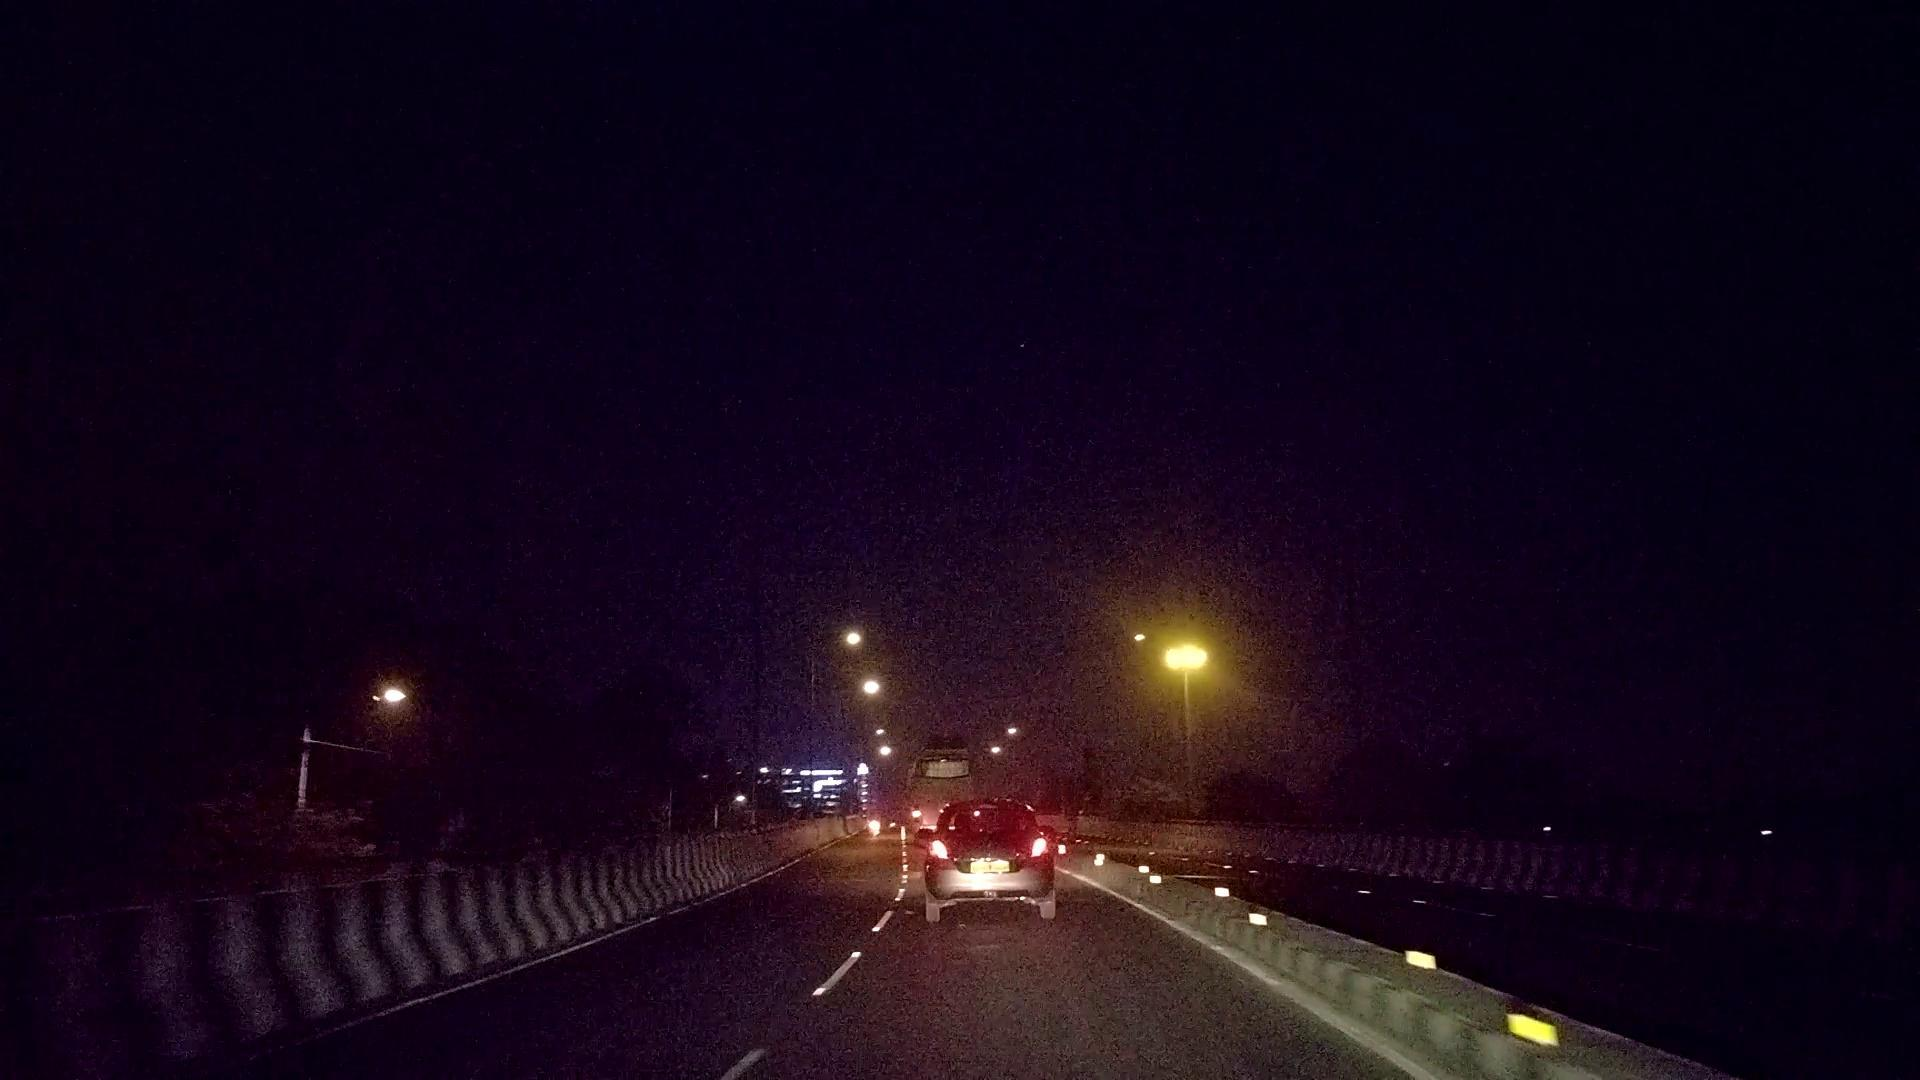on: (1069, 522, 1327, 771)
